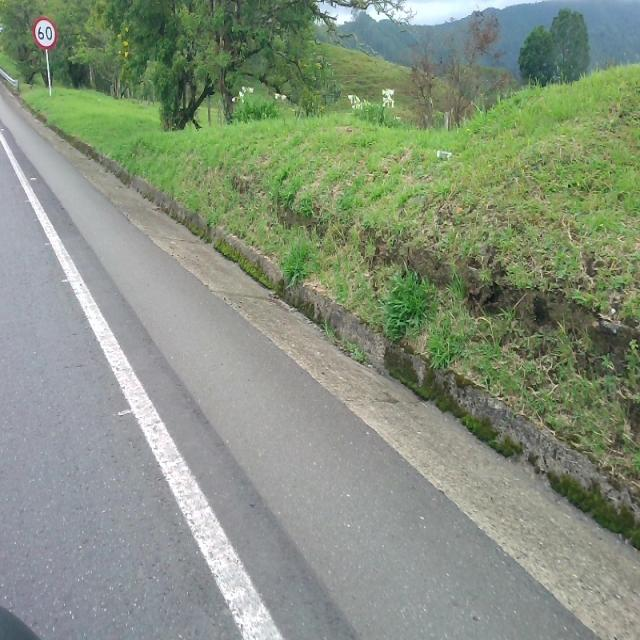DITCH: (1, 52, 636, 638), (2, 75, 638, 638)
